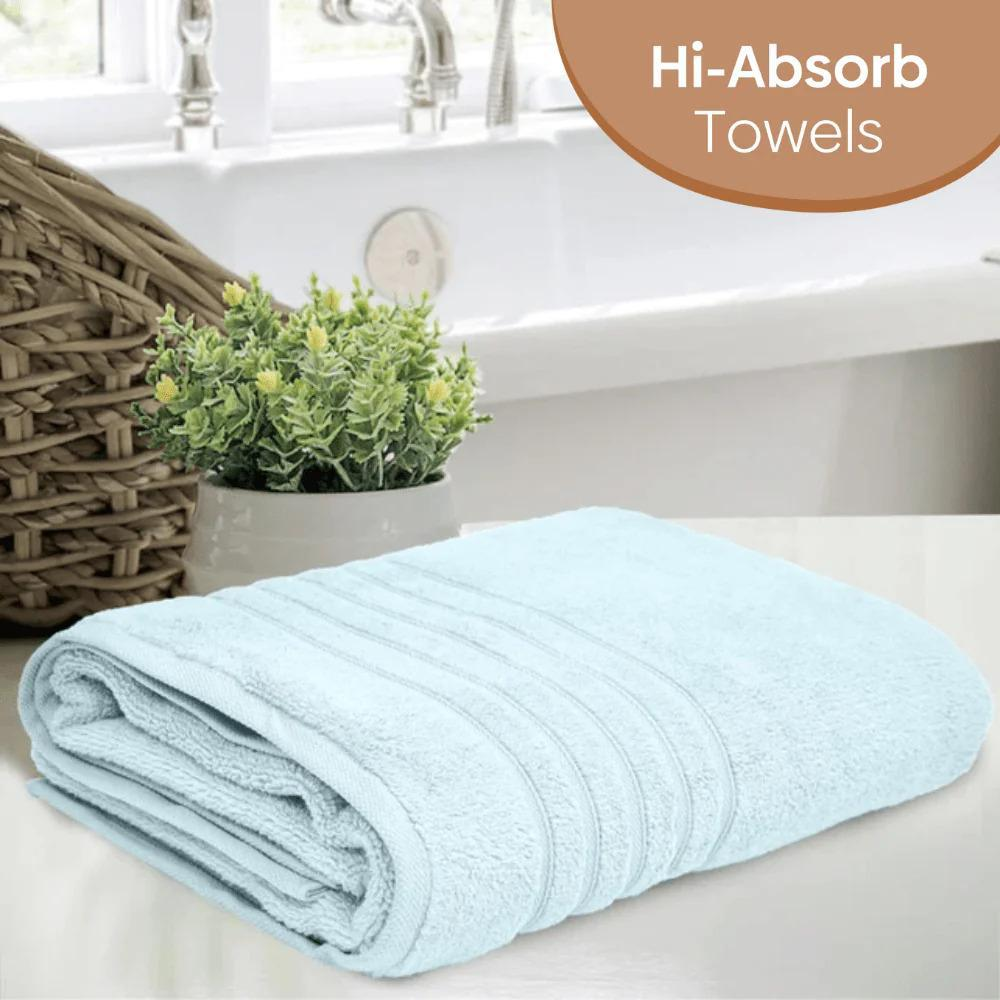towel: (0, 602, 835, 960)
